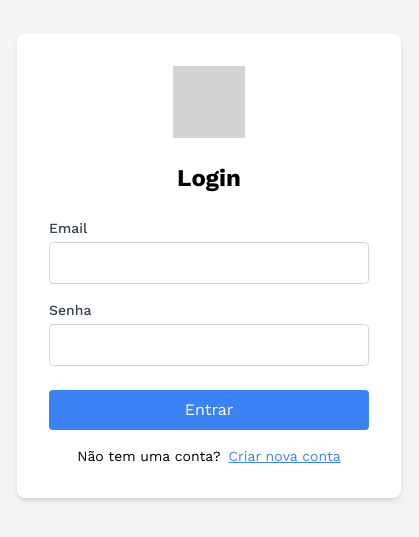
Test: Login Component › Exibe erro ao falhar no login
Step 1. Type "teste@exemplo.com" into the field labelled "Email" → [209, 263], box [49,242,369,284]
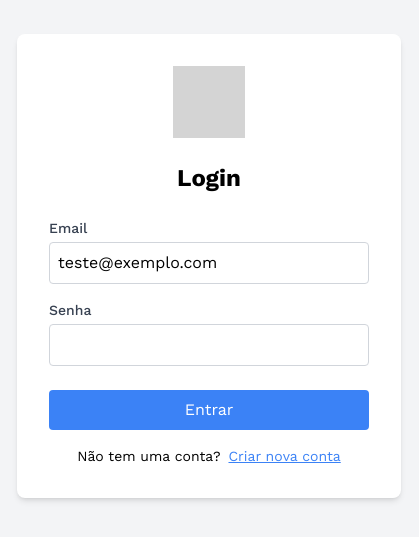
Step 2. Type "senha_incorreta" into the password field labelled "Senha" → [209, 345], box [49,324,369,366]
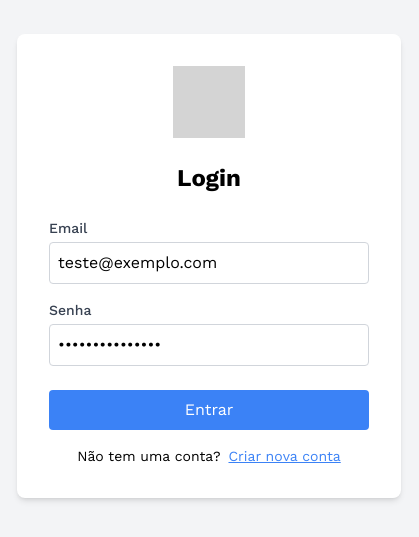
Step 3. Click the button "Entrar" → [209, 410], box [49,390,369,430]
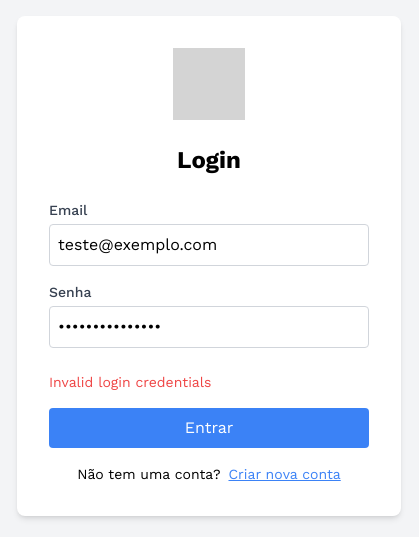
expect the text "Invalid login credentials" is shown: met, box [49,374,212,390]
